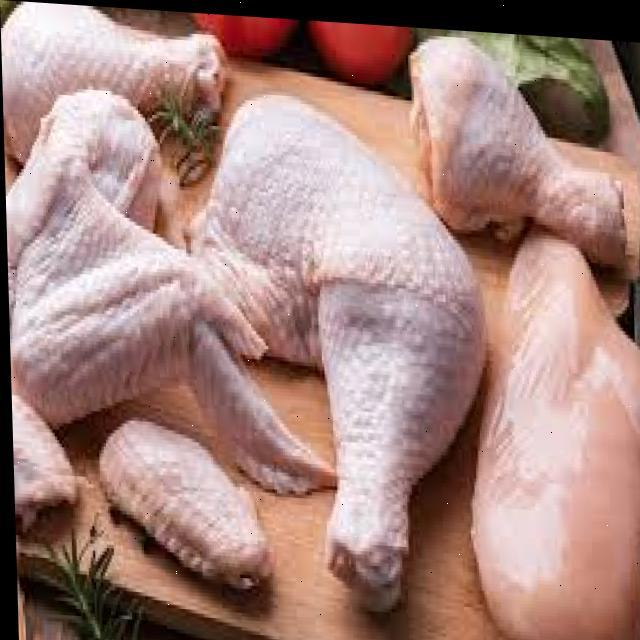breast: (453, 212, 640, 640)
leg: (399, 22, 640, 258), (1, 0, 230, 176)
quater: (188, 81, 475, 604)
wing: (2, 79, 337, 494)
